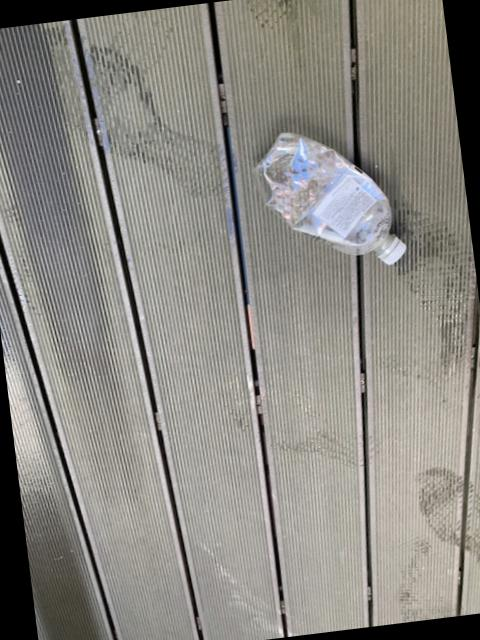plastic: (257, 133, 407, 264)
